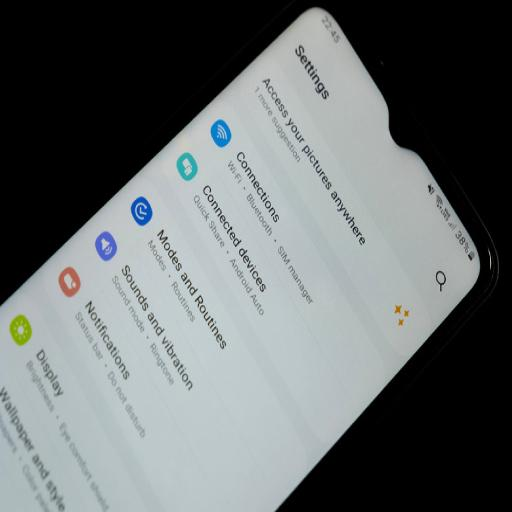phone: (2, 2, 504, 510)
